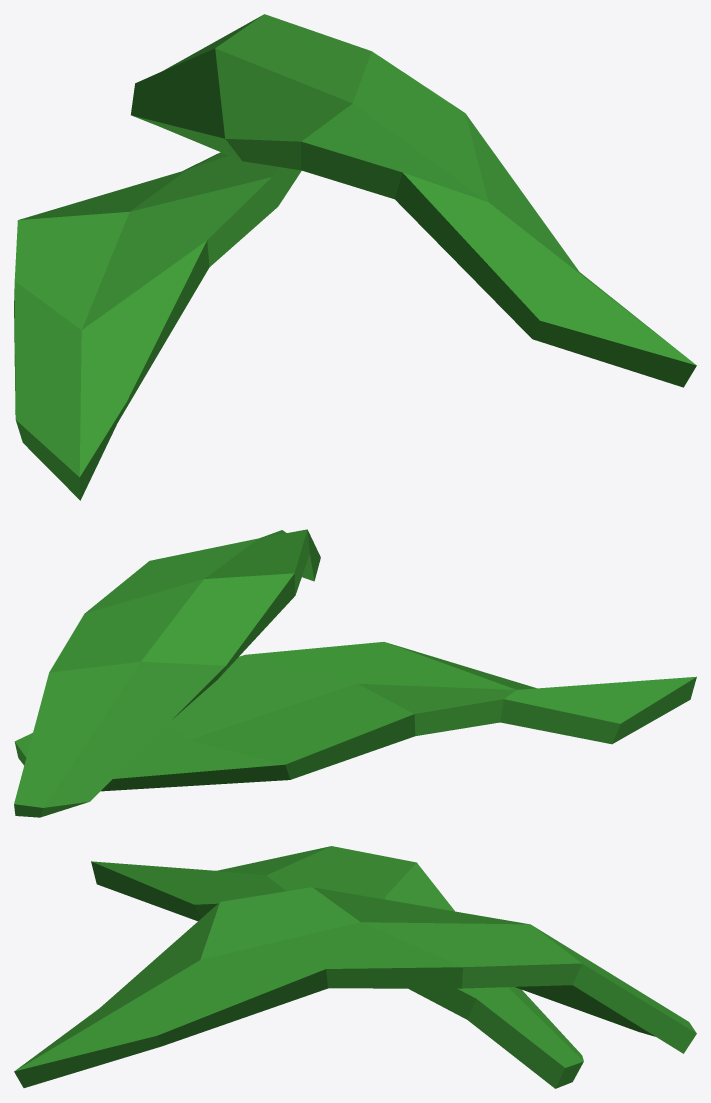
Rendered from grass_5.glb.
3 views of the same model, one above another, from view 1: azimuth 30°, elevation 25°; view 2: azimuth 150°, elevation 25°; view 3: azimuth 270°, elevation 25° (orthographic). The views are drawn at different scales.
Visible parts, largest first — view 1: Plane.041; view 2: Plane.041; view 3: Plane.041.
Part boxes in pixels (x1,y1,x2,y2): Plane.041: [14, 14, 696, 500]; Plane.041: [14, 529, 696, 817]; Plane.041: [14, 846, 696, 1088].
Size of the model in its own units: 0.1659 by 0.0517 by 0.2201.
